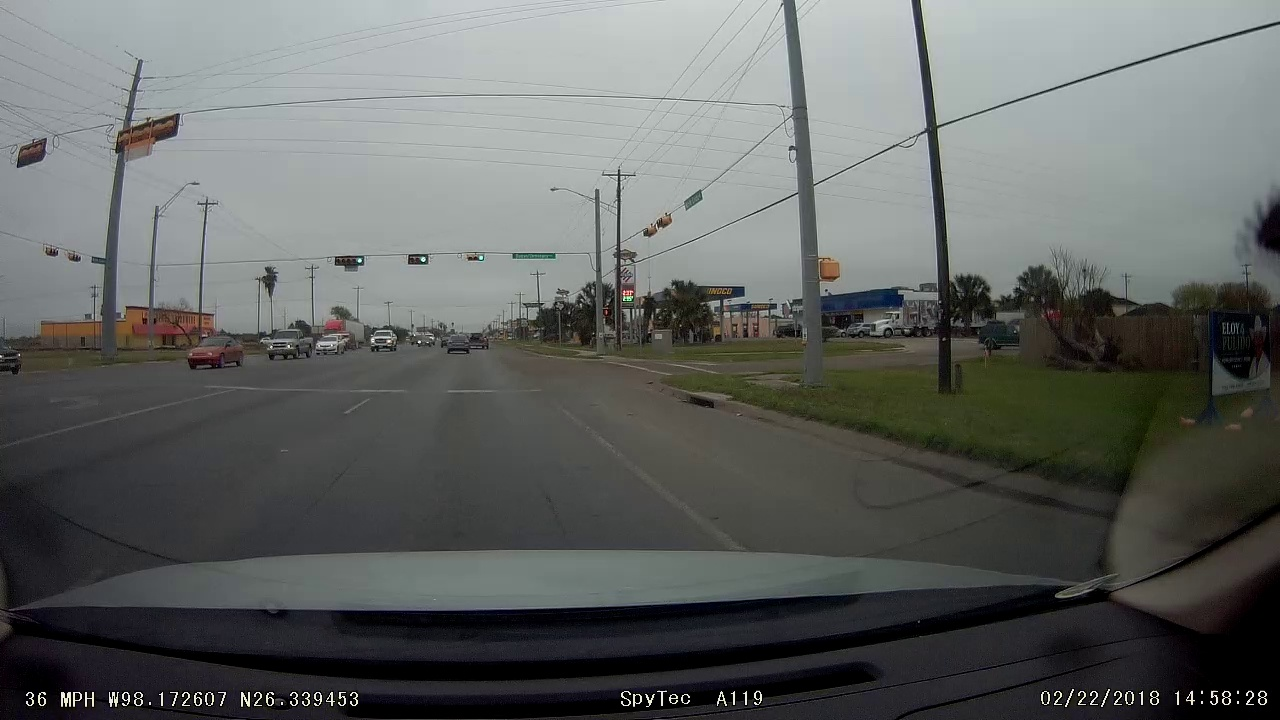blurredLine: (547, 399, 673, 512), (370, 379, 549, 401)
